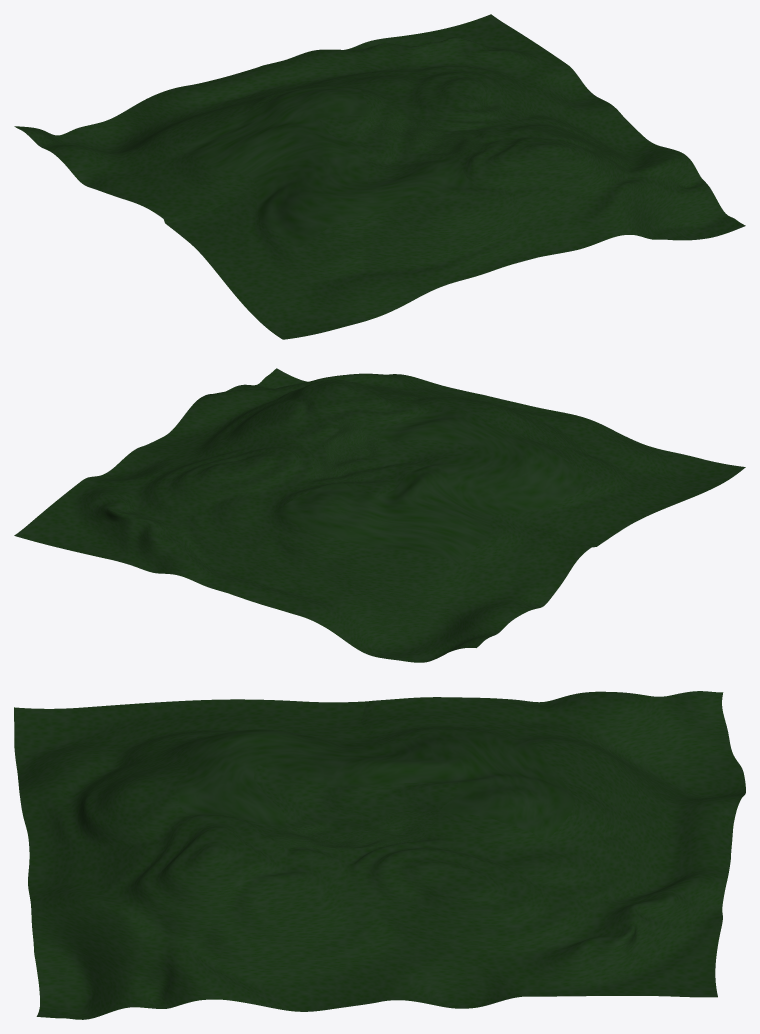
File: geund 1.fbx
3 views of the same model, one above another, from view 1: azimuth 30°, elevation 25°; view 2: azimuth 150°, elevation 25°; view 3: azimuth 270°, elevation 25° (orthographic). The views are drawn at different scales.
Parts seen in each view (by area): view 1: Landscape.019, Landscape.017, Landscape.021, Landscape.001, Landscape.018; view 2: Landscape.017, Landscape.001, Landscape.019, Landscape.021, Landscape.018; view 3: Landscape.001, Landscape.021, Landscape.017, Landscape.019, Landscape.018.
Boxes of the visible parts, box(x1,y1,x2,y2) form: Landscape.019: box(165, 153, 525, 339); Landscape.017: box(14, 66, 371, 223); Landscape.021: box(451, 119, 745, 260); Landscape.001: box(261, 14, 625, 133); Landscape.018: box(320, 115, 495, 184); Landscape.017: box(229, 465, 595, 662); Landscape.001: box(14, 433, 335, 593); Landscape.019: box(376, 397, 745, 546); Landscape.021: box(147, 368, 496, 449); Landscape.018: box(312, 419, 479, 496); Landscape.001: box(327, 813, 730, 1008); Landscape.021: box(28, 814, 364, 1019); Landscape.017: box(329, 691, 745, 866); Landscape.019: box(14, 699, 389, 849); Landscape.018: box(254, 764, 458, 850).
Size of the model in its own units: 2640 by 378 by 2667.
Materials: 1 (1 with a texture image).
